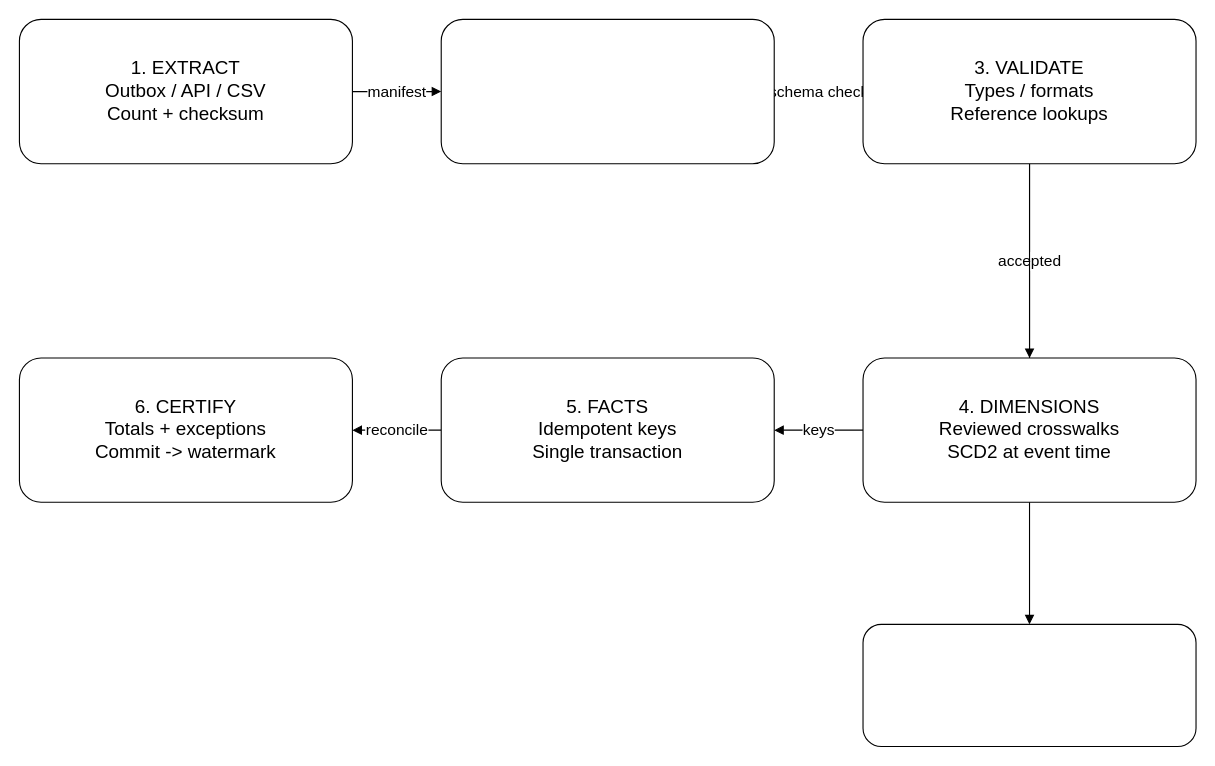
Image size: 1215x766. Some labels were removed from this diagram. Here are the shapes that lost their labels. From the top down, the centre of each, then its label:
pixel 607 91: 2. INTAKE Immutable raw copy Restricted access
pixel 1029 684: QUARANTINE Reason + owner + replay Retain source evidence
